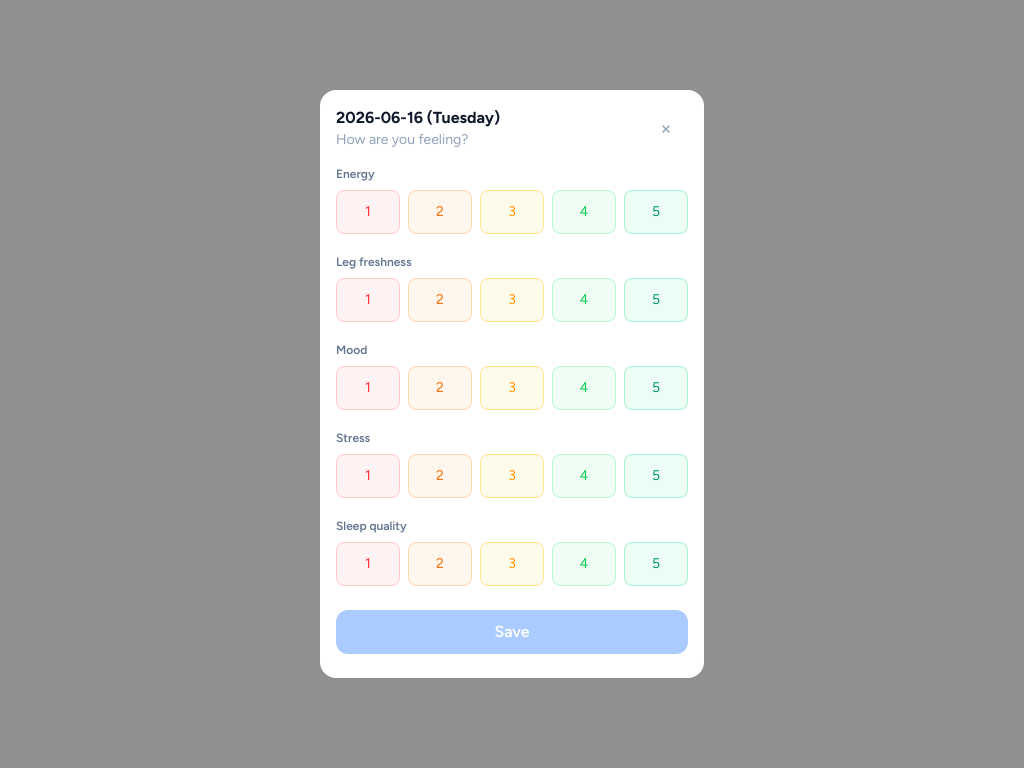
Test: WellnessSheet › shows error message when save fails
The image size is (1024, 768).
What coordinates should you click on to do the following:
click the button "4" below "Energy"
I would click on:
 (584, 212)
Its box is [552, 190, 616, 234].
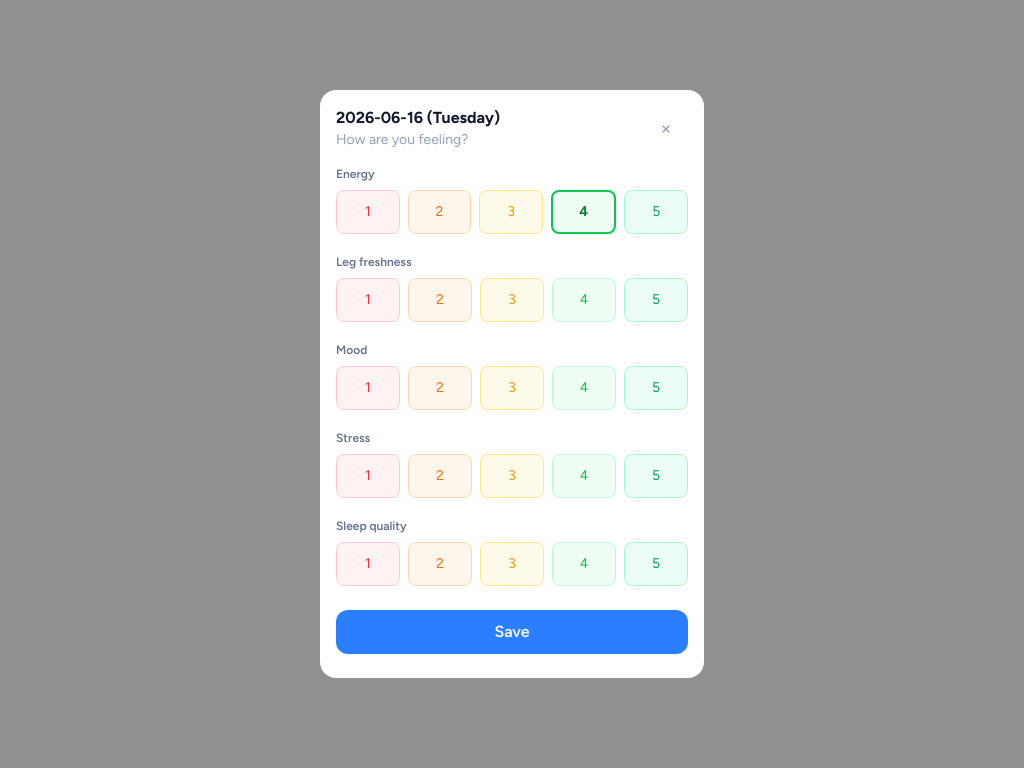
What coordinates should you click on to do the following:
click the button "Save"
I would click on:
 (512, 632)
Its box is [336, 610, 688, 654].
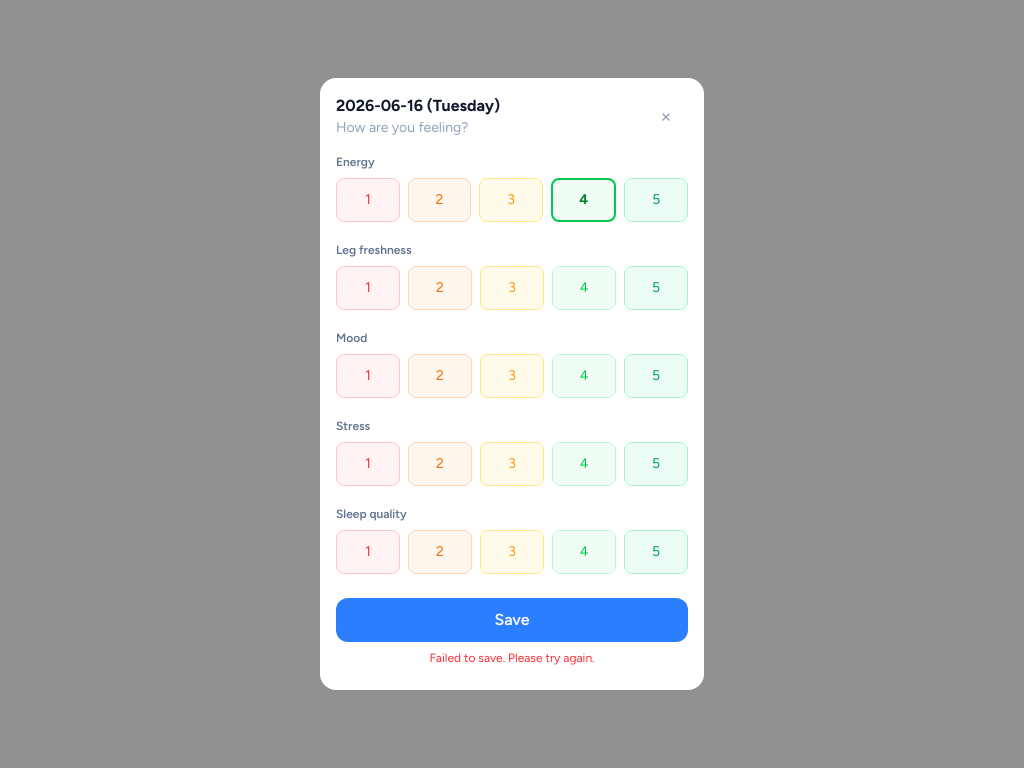
Now the text "Failed to save. Please try again." is shown, box [429, 651, 595, 665]
